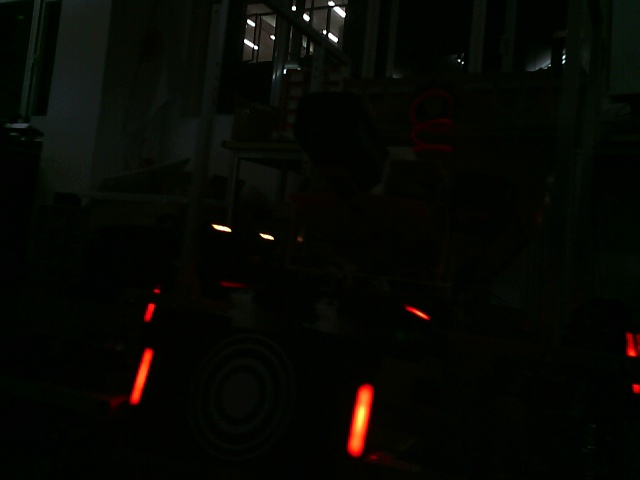lamp: (346, 379, 376, 459), (126, 344, 154, 406)
